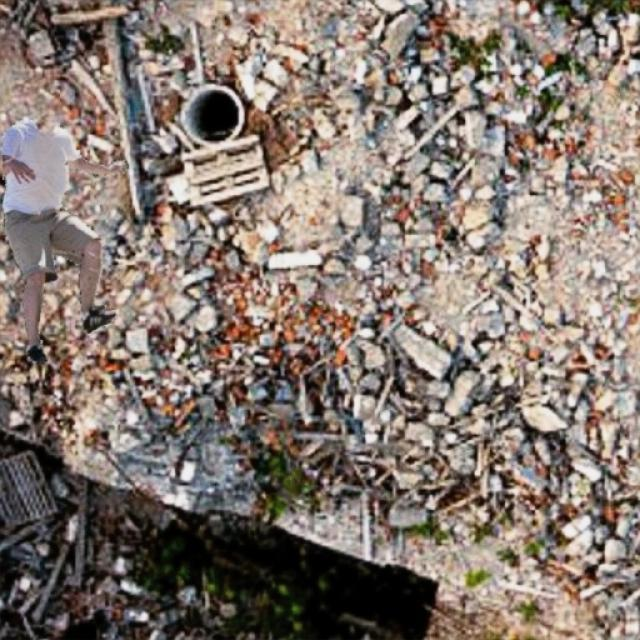Person in Rubble: (2, 120, 128, 360)
